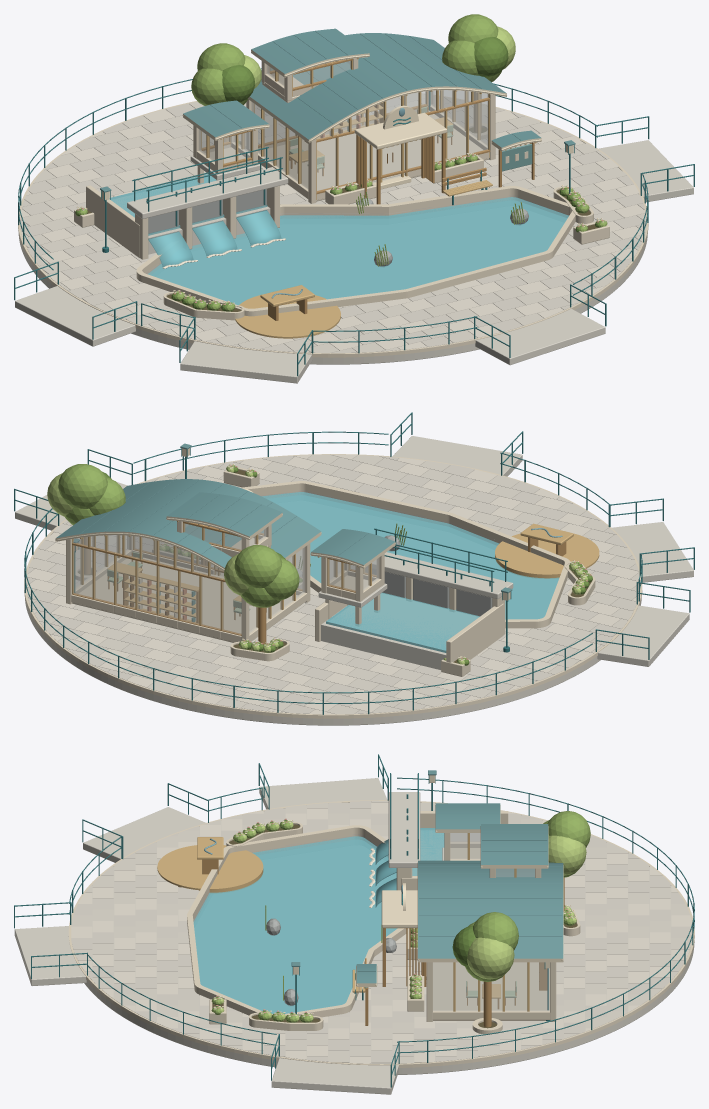
The model's file is water.glb.
The picture shows the model from 3 angles, top to bottom: view 1: azimuth 30°, elevation 25°; view 2: azimuth 150°, elevation 25°; view 3: azimuth 270°, elevation 25°; orthographic projection.
Parts seen in each view (by area): view 1: ThemeFacilities_Components__Clear turquoise water, Site_Components__WarmLimestonePaver0, Site_Components__WarmLimestonePaver2, Site_Components__WarmLimestonePaver1, Site_Components__stone, DisasterManagementCentre__roof, ThemeFacilities_Components__cream, DisasterManagementCentre__Clear warm architectural glazing, Site_Components__rail, Landscape_Components__leaf, DisasterManagementCentre__floor, Site_Components__cream (+25 smaller); view 2: Site_Components__WarmLimestonePaver0, Site_Components__WarmLimestonePaver2, Site_Components__WarmLimestonePaver1, Site_Components__stone, ThemeFacilities_Components__Clear turquoise water, DisasterManagementCentre__Clear warm architectural glazing, DisasterManagementCentre__roof, ThemeFacilities_Components__cream, Site_Components__rail, Landscape_Components__leaf, ThemeFacilities_Components__stone, Site_Components__cream (+22 smaller); view 3: ThemeFacilities_Components__Clear turquoise water, Site_Components__WarmLimestonePaver0, Site_Components__WarmLimestonePaver2, Site_Components__WarmLimestonePaver1, Site_Components__stone, DisasterManagementCentre__roof, Site_Components__rail, ThemeFacilities_Components__cream, DisasterManagementCentre__Clear warm architectural glazing, Site_Components__cream, ThemeFacilities_Components__woodLight, DisasterManagementCentre__floor (+16 smaller).
Part boxes in pixels (left/top/right/bottom): ThemeFacilities_Components__Clear turquoise water: left=109, top=174, right=568, bottom=305; Site_Components__WarmLimestonePaver0: left=20, top=93, right=646, bottom=353; Site_Components__WarmLimestonePaver2: left=20, top=96, right=646, bottom=353; Site_Components__WarmLimestonePaver1: left=20, top=101, right=645, bottom=350; Site_Components__stone: left=15, top=140, right=693, bottom=383; DisasterManagementCentre__roof: left=250, top=33, right=506, bottom=139; ThemeFacilities_Components__cream: left=86, top=166, right=577, bottom=316; DisasterManagementCentre__Clear warm architectural glazing: left=251, top=90, right=488, bottom=190; Site_Components__rail: left=14, top=68, right=694, bottom=376; Landscape_Components__leaf: left=79, top=14, right=607, bottom=311; DisasterManagementCentre__floor: left=259, top=110, right=482, bottom=190; Site_Components__cream: left=18, top=93, right=648, bottom=357; Site_Components__WarmLimestonePaver0: left=26, top=454, right=640, bottom=714; Site_Components__WarmLimestonePaver2: left=26, top=456, right=638, bottom=713; Site_Components__WarmLimestonePaver1: left=27, top=454, right=638, bottom=714; Site_Components__stone: left=15, top=436, right=693, bottom=725; ThemeFacilities_Components__Clear turquoise water: left=262, top=492, right=559, bottom=652; DisasterManagementCentre__Clear warm architectural glazing: left=73, top=535, right=304, bottom=634; DisasterManagementCentre__roof: left=56, top=479, right=320, bottom=567; ThemeFacilities_Components__cream: left=240, top=481, right=570, bottom=662; Site_Components__rail: left=14, top=412, right=694, bottom=714; Landscape_Components__leaf: left=58, top=464, right=591, bottom=662; ThemeFacilities_Components__stone: left=318, top=583, right=478, bottom=669; Site_Components__cream: left=24, top=454, right=642, bottom=718; ThemeFacilities_Components__Clear turquoise water: left=193, top=828, right=444, bottom=1013; Site_Components__WarmLimestonePaver0: left=71, top=801, right=692, bottom=1063; Site_Components__WarmLimestonePaver2: left=71, top=801, right=692, bottom=1062; Site_Components__WarmLimestonePaver1: left=71, top=802, right=691, bottom=1063; Site_Components__stone: left=14, top=778, right=694, bottom=1094; DisasterManagementCentre__roof: left=418, top=860, right=563, bottom=958; Site_Components__rail: left=14, top=754, right=694, bottom=1087; ThemeFacilities_Components__cream: left=187, top=811, right=508, bottom=1017; DisasterManagementCentre__Clear warm architectural glazing: left=433, top=962, right=549, bottom=1010; Site_Components__cream: left=68, top=800, right=694, bottom=1067; ThemeFacilities_Components__woodLight: left=157, top=837, right=263, bottom=893; DisasterManagementCentre__floor: left=433, top=962, right=549, bottom=1009.
Bounding box in the file's own units: 29.19 × 5.52 × 27.02.
